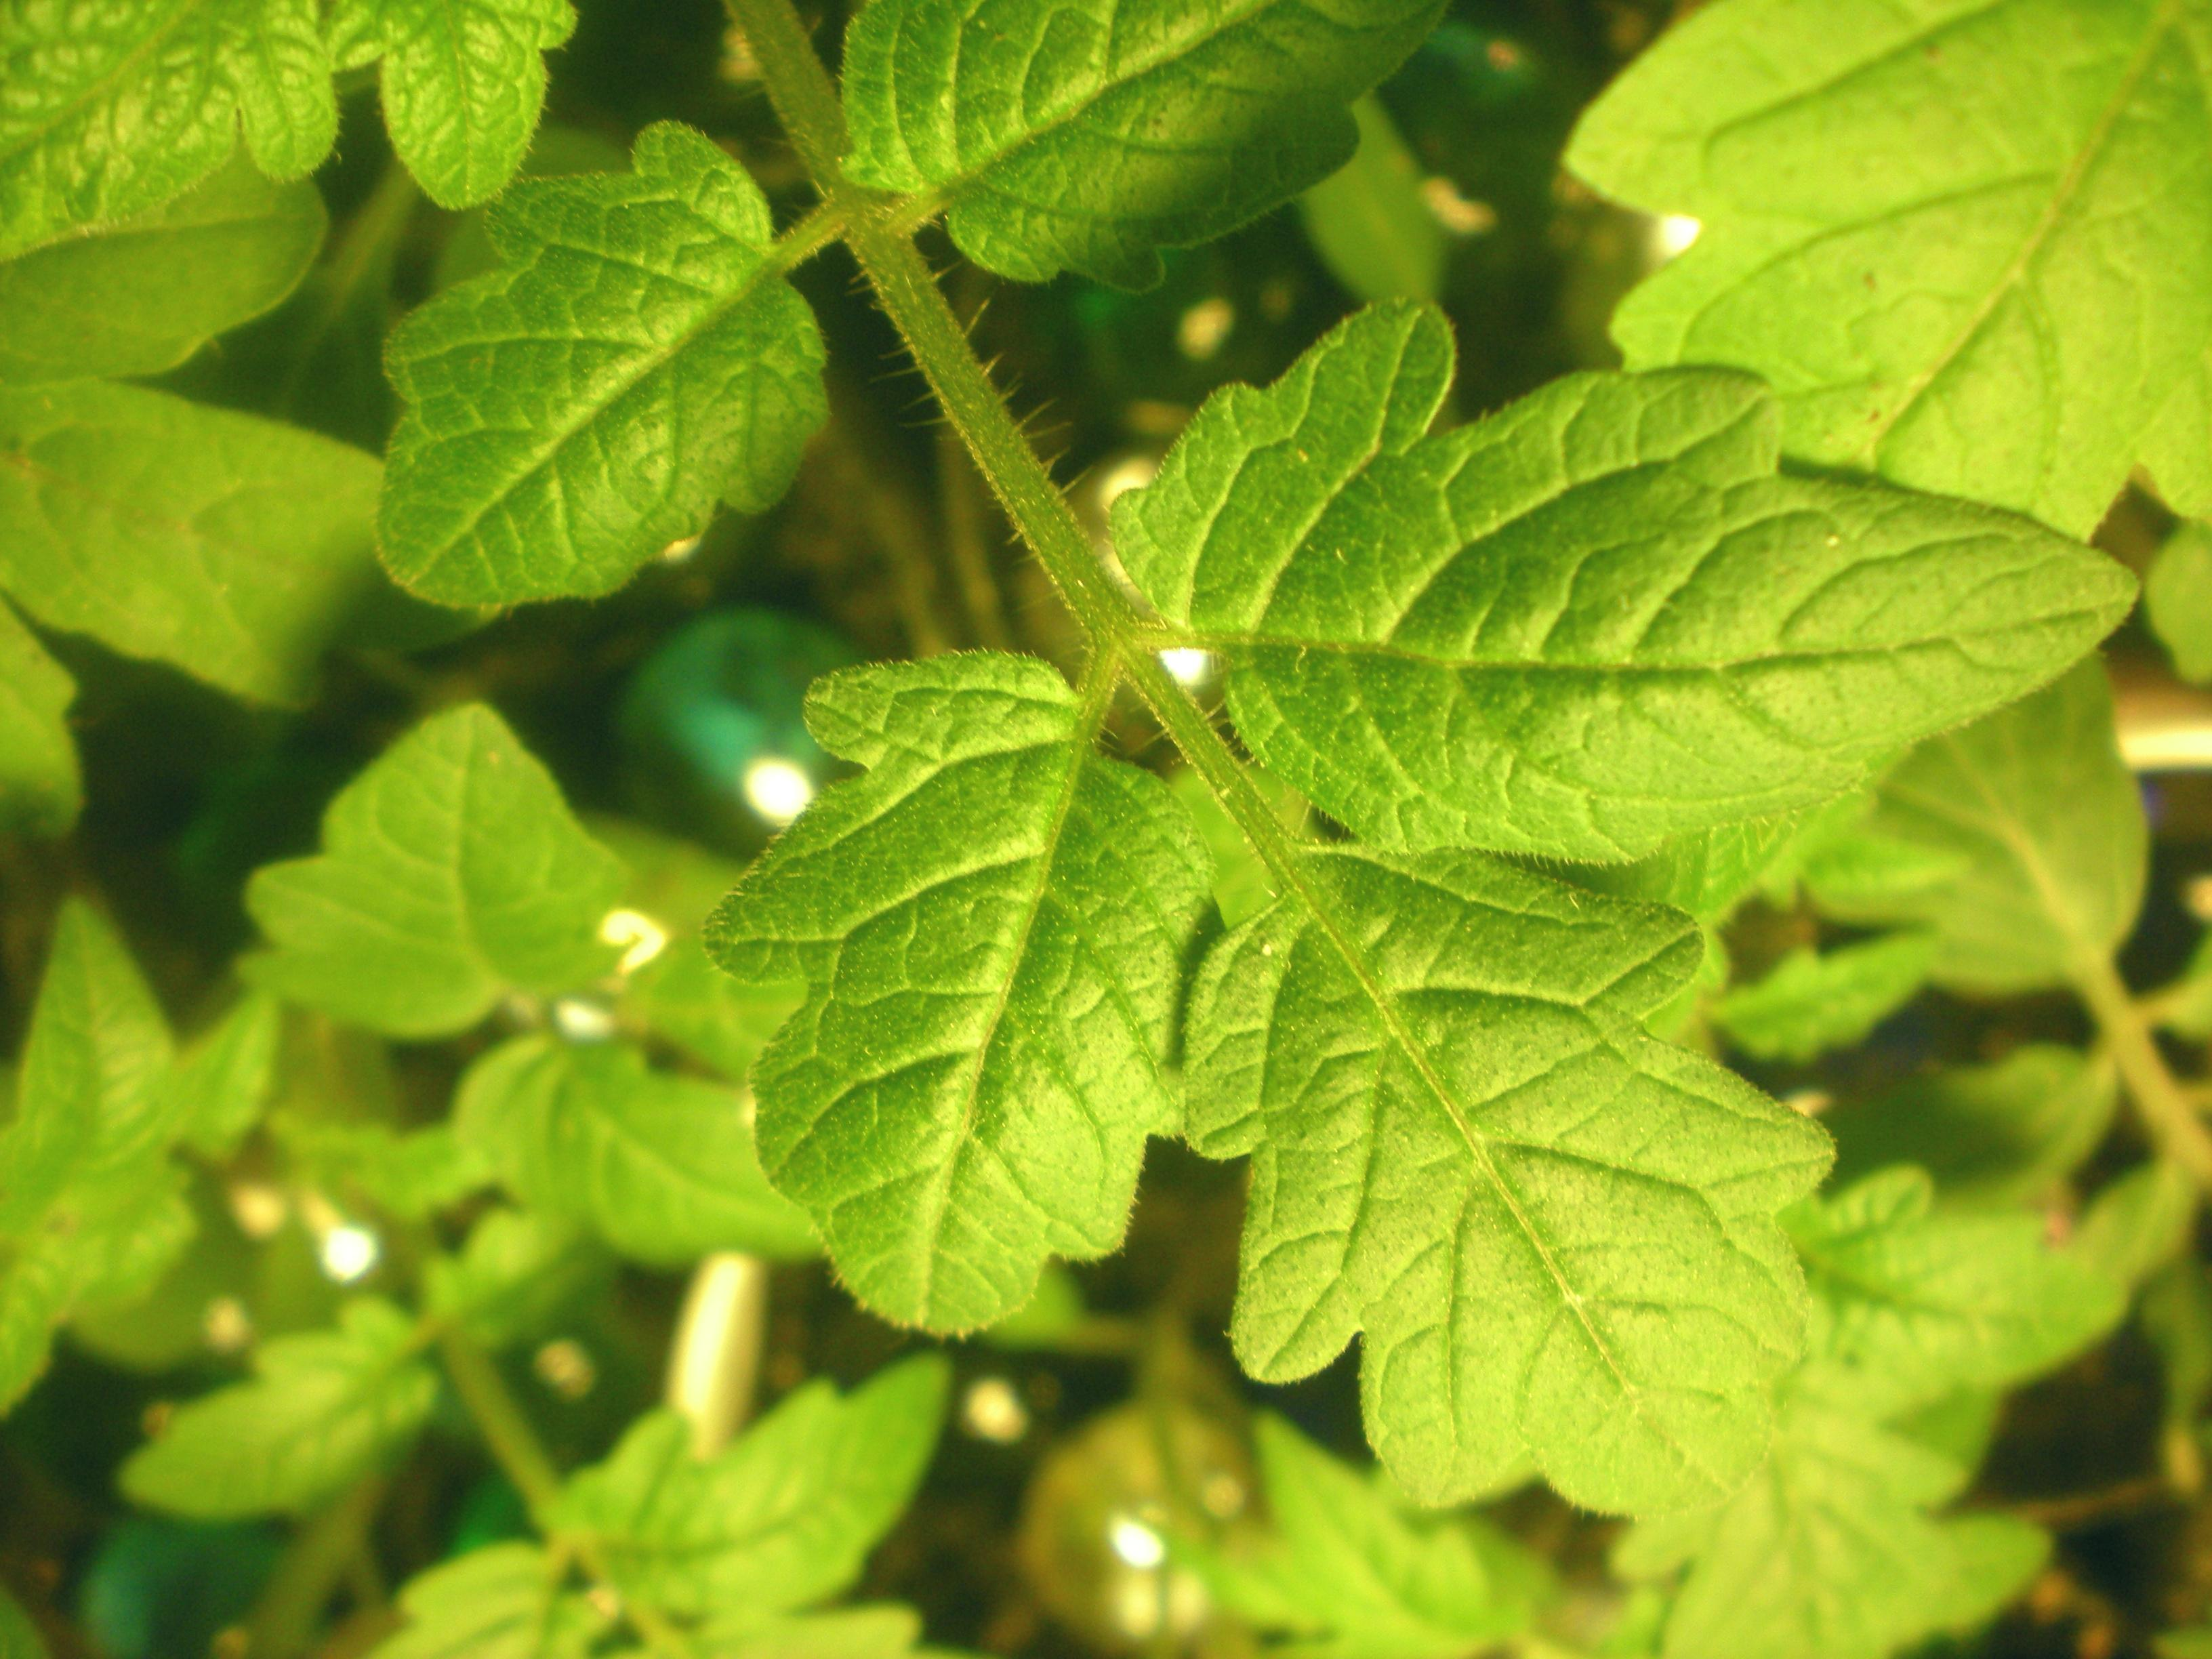Tomato leaf: (1092, 310, 2148, 847), (1197, 814, 1832, 1534), (704, 577, 1244, 1356), (329, 166, 887, 653), (829, 0, 1474, 314), (235, 692, 672, 1046), (531, 1354, 977, 1643), (449, 1025, 840, 1304)
